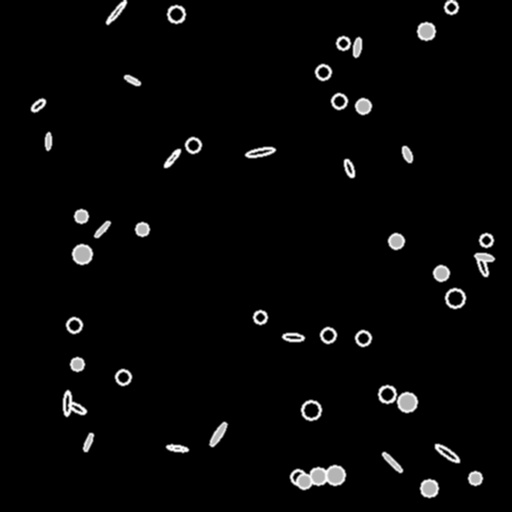pseudomonas: (433, 442, 461, 464), (105, 0, 127, 25), (208, 421, 228, 447), (381, 451, 403, 473), (245, 146, 275, 158), (163, 148, 181, 168), (475, 253, 489, 277), (93, 220, 111, 238), (67, 400, 87, 416), (30, 97, 46, 113), (343, 158, 355, 178), (82, 432, 94, 452), (123, 74, 141, 86), (401, 145, 413, 163), (474, 252, 494, 262), (283, 333, 303, 341), (167, 444, 187, 452), (353, 38, 361, 56), (64, 391, 70, 415), (45, 133, 51, 149)
synechocystis: (73, 245, 91, 263), (302, 401, 320, 419), (326, 466, 344, 484), (446, 289, 464, 307), (398, 393, 416, 411), (310, 468, 326, 484), (421, 480, 437, 496), (418, 23, 434, 39), (379, 386, 395, 402), (168, 6, 184, 22), (356, 331, 370, 345), (389, 234, 403, 248), (321, 328, 335, 342), (67, 318, 81, 332), (316, 65, 330, 79), (291, 470, 305, 484), (332, 94, 346, 108), (434, 266, 448, 280), (297, 474, 311, 488), (116, 370, 130, 384), (356, 99, 370, 113), (186, 138, 200, 152), (71, 358, 83, 370), (469, 472, 481, 484), (254, 311, 266, 323), (337, 37, 349, 49), (75, 210, 87, 222), (445, 1, 457, 13), (136, 223, 148, 235), (480, 234, 492, 246)
